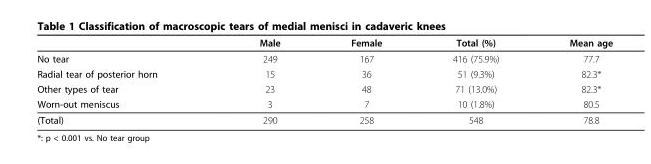table: (36, 36, 612, 125)
table column: (36, 36, 207, 125), (416, 36, 533, 125), (207, 36, 314, 125), (314, 36, 416, 125), (533, 36, 612, 125)
table column header: (36, 36, 612, 50)
table row: (36, 65, 612, 81), (36, 50, 612, 65), (36, 81, 612, 96), (36, 96, 612, 111), (36, 36, 612, 50), (36, 111, 612, 125)
